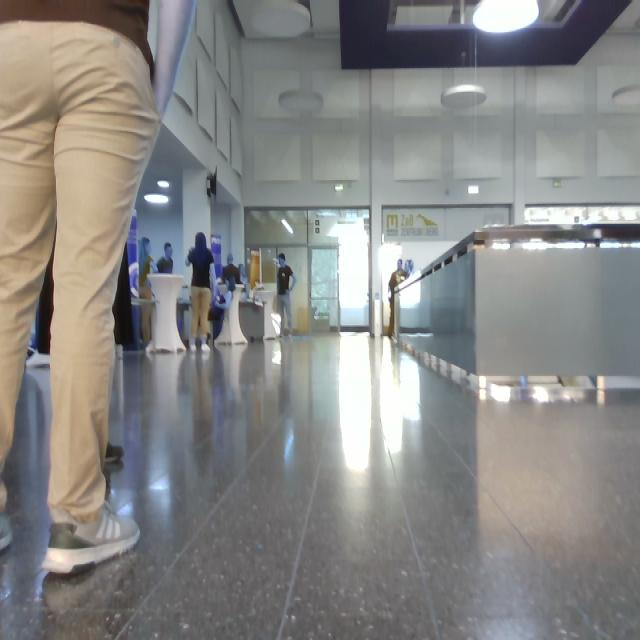desk: (149, 274, 186, 353)
door: (246, 209, 371, 333)
light bulb: (246, 1, 311, 38), (474, 1, 538, 33), (280, 90, 322, 116), (442, 85, 486, 109), (613, 85, 640, 106), (488, 384, 512, 401), (145, 194, 169, 205), (284, 218, 294, 234), (159, 181, 170, 189)
person: (1, 1, 162, 572), (188, 233, 214, 350), (278, 254, 296, 336), (389, 260, 407, 337), (140, 238, 153, 297), (157, 244, 173, 274)
staircase: (396, 248, 640, 402)
table: (149, 274, 189, 352), (217, 286, 248, 342), (257, 289, 278, 340)
tiled floor: (1, 336, 640, 640)
